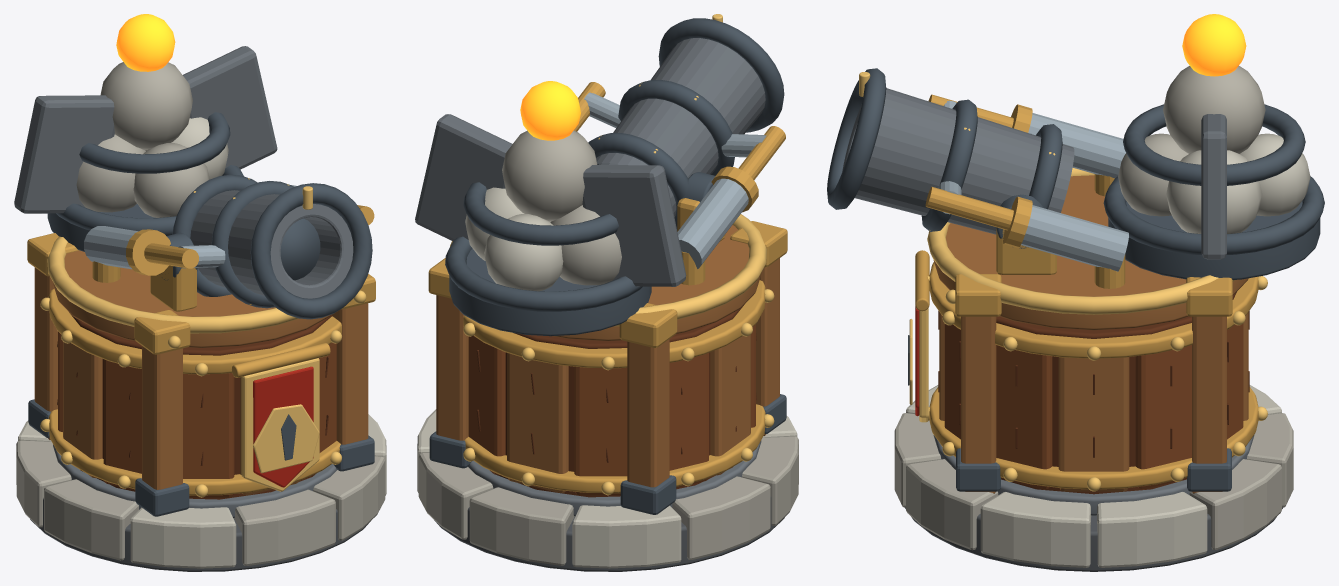
The model's file is crush-cannon-action.glb.
3 views of the same model, side by side, from view 1: azimuth 30°, elevation 25°; view 2: azimuth 150°, elevation 25°; view 3: azimuth 270°, elevation 25° (orthographic). The views are drawn at different scales.
Visible parts, largest first — view 1: Crush surface 05, Crush surface 02, Crush surface 14, Crush surface 19, Crush surface 07, Crush surface 06, Crush surface 12, Crush surface 08, Crush surface 18, Crush surface 01, Crush surface 11, Crush surface 09 (+11 smaller); view 2: Crush surface 05, Crush surface 02, Crush surface 14, Crush surface 06, Crush surface 11, Crush surface 07, Crush surface 18, Crush surface 12, Crush surface 19, Crush surface 01, Crush surface 13, Crush surface 08 (+10 smaller); view 3: Crush surface 05, Crush surface 06, Crush surface 11, Crush surface 01, Crush surface 18, Crush surface 07, Crush surface 02, Crush surface 12, Crush surface 08, Crush surface 19, Crush surface 21, Crush surface 13 (+9 smaller).
Boxes of the visible parts, x1,y1,x2,y2 form: Crush surface 05: [34, 250, 368, 495]; Crush surface 02: [16, 440, 385, 565]; Crush surface 14: [14, 46, 277, 213]; Crush surface 19: [172, 174, 372, 319]; Crush surface 07: [27, 233, 375, 495]; Crush surface 06: [58, 331, 336, 497]; Crush surface 12: [76, 62, 209, 217]; Crush surface 08: [40, 236, 366, 497]; Crush surface 18: [190, 190, 353, 298]; Crush surface 01: [18, 414, 386, 568]; Crush surface 11: [47, 112, 243, 251]; Crush surface 09: [28, 399, 374, 516]; Crush surface 05: [436, 225, 779, 492]; Crush surface 02: [418, 436, 798, 565]; Crush surface 14: [415, 114, 686, 286]; Crush surface 06: [468, 324, 755, 495]; Crush surface 11: [445, 182, 651, 336]; Crush surface 07: [428, 221, 787, 493]; Crush surface 18: [596, 38, 765, 217]; Crush surface 12: [502, 130, 621, 285]; Crush surface 19: [588, 18, 784, 230]; Crush surface 01: [417, 409, 797, 568]; Crush surface 13: [465, 187, 563, 291]; Crush surface 08: [450, 214, 774, 495]; Crush surface 05: [933, 175, 1248, 493]; Crush surface 06: [944, 324, 1243, 489]; Crush surface 11: [1103, 104, 1324, 279]; Crush surface 01: [906, 385, 1281, 567]; Crush surface 18: [842, 88, 1074, 234]; Crush surface 07: [915, 250, 1258, 489]; Crush surface 02: [894, 413, 1293, 549]; Crush surface 12: [1118, 66, 1265, 216]; Crush surface 08: [909, 168, 1267, 491]; Crush surface 19: [827, 68, 1062, 231]; Crush surface 21: [1021, 113, 1128, 271]; Crush surface 13: [1166, 133, 1310, 233].
Bounding box in the file's own units: 3.99 × 5.22 × 4.97.
